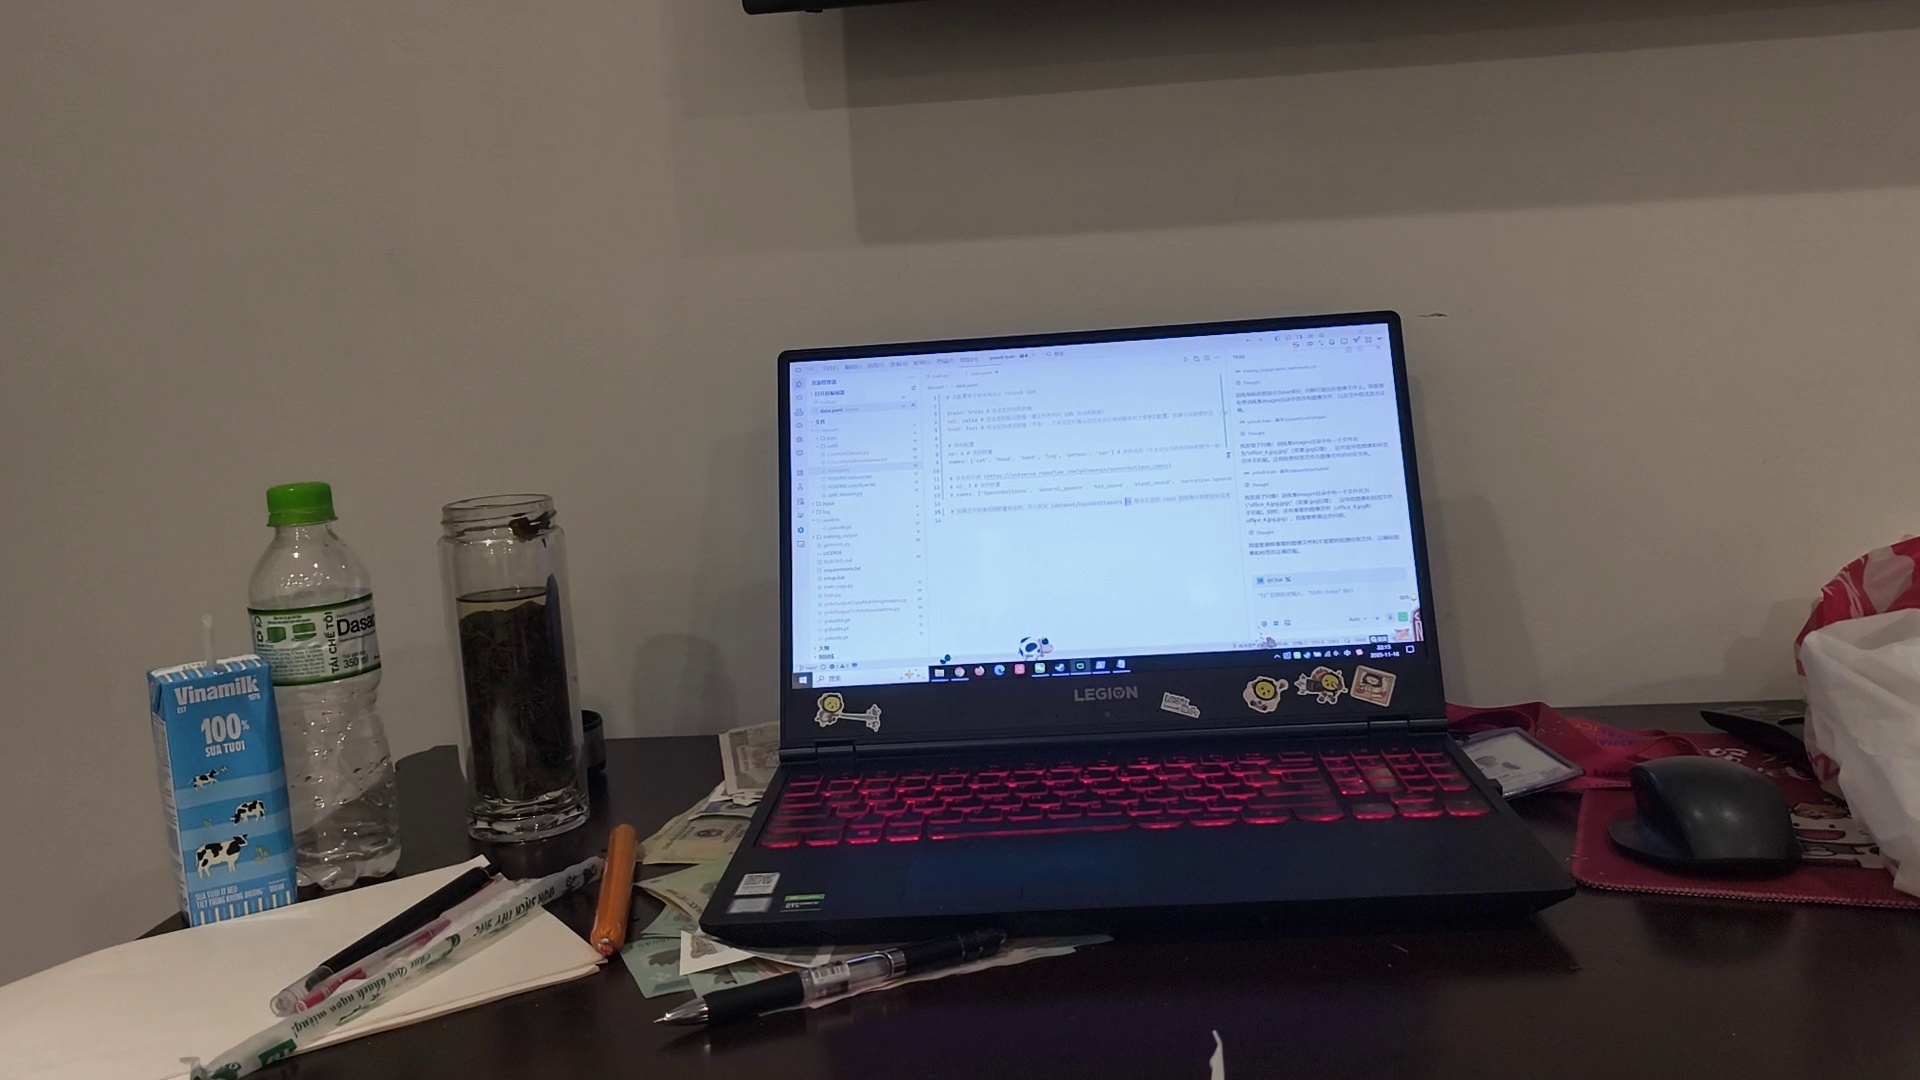bolibei: (446, 480, 576, 827)
bottle: (268, 464, 385, 840)
computer: (720, 328, 1580, 936)
milk: (146, 650, 287, 899)
mouse: (1639, 738, 1804, 884)
pen: (286, 851, 538, 1017), (670, 931, 1035, 1035)
